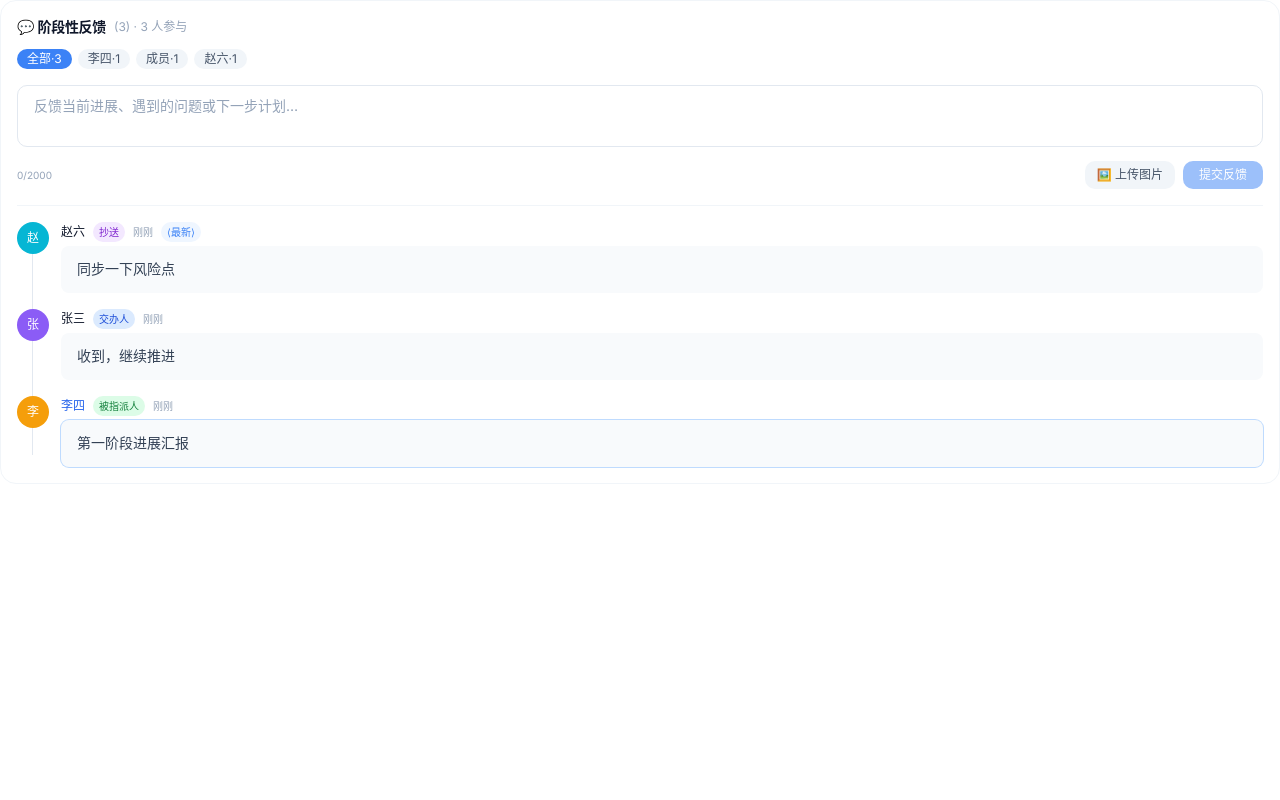
FeedbackTimeline › 被指派人应可输入并提交反馈
In the text box with placeholder "反馈当前进展、遇到的问题或下一步计划…": (640,116) [17,85,1263,147], type "今天推进到一半，明天继续"
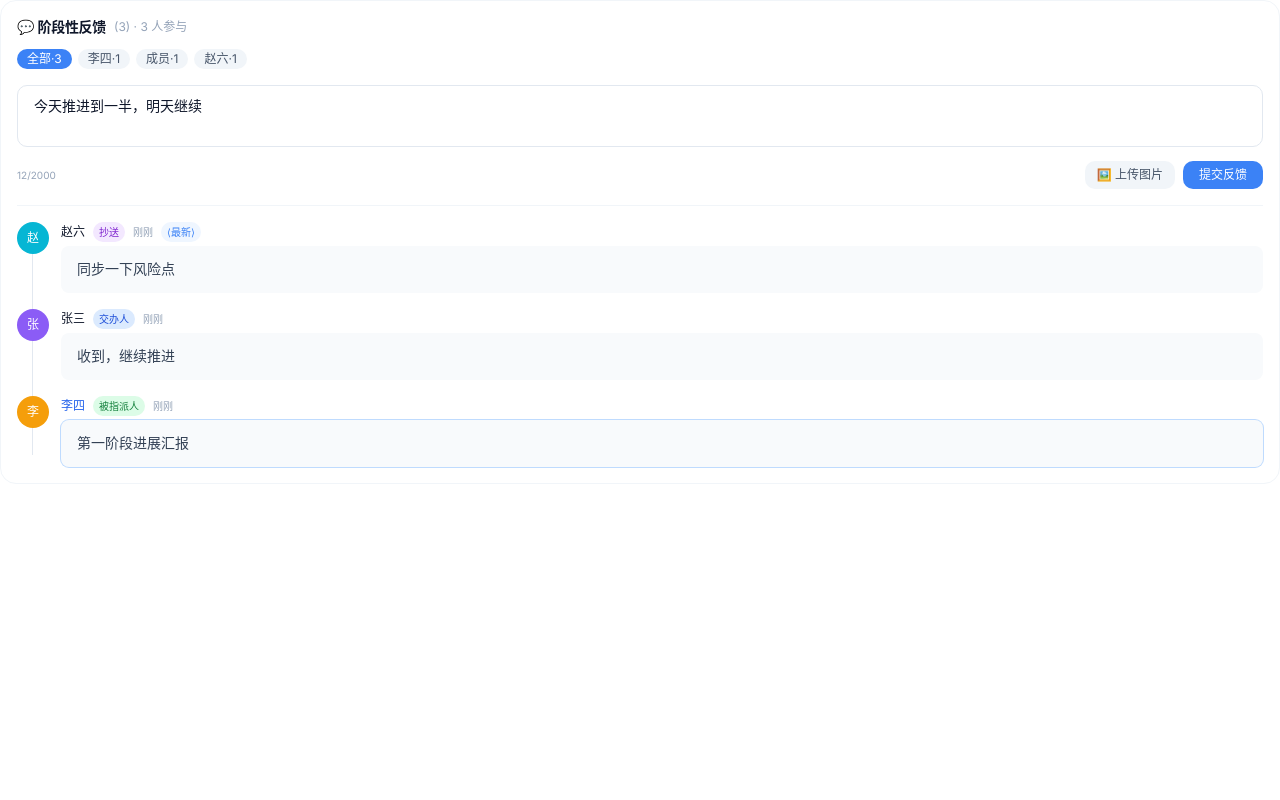
Click the button "提交反馈": (1223,175) [1183,161,1263,189]
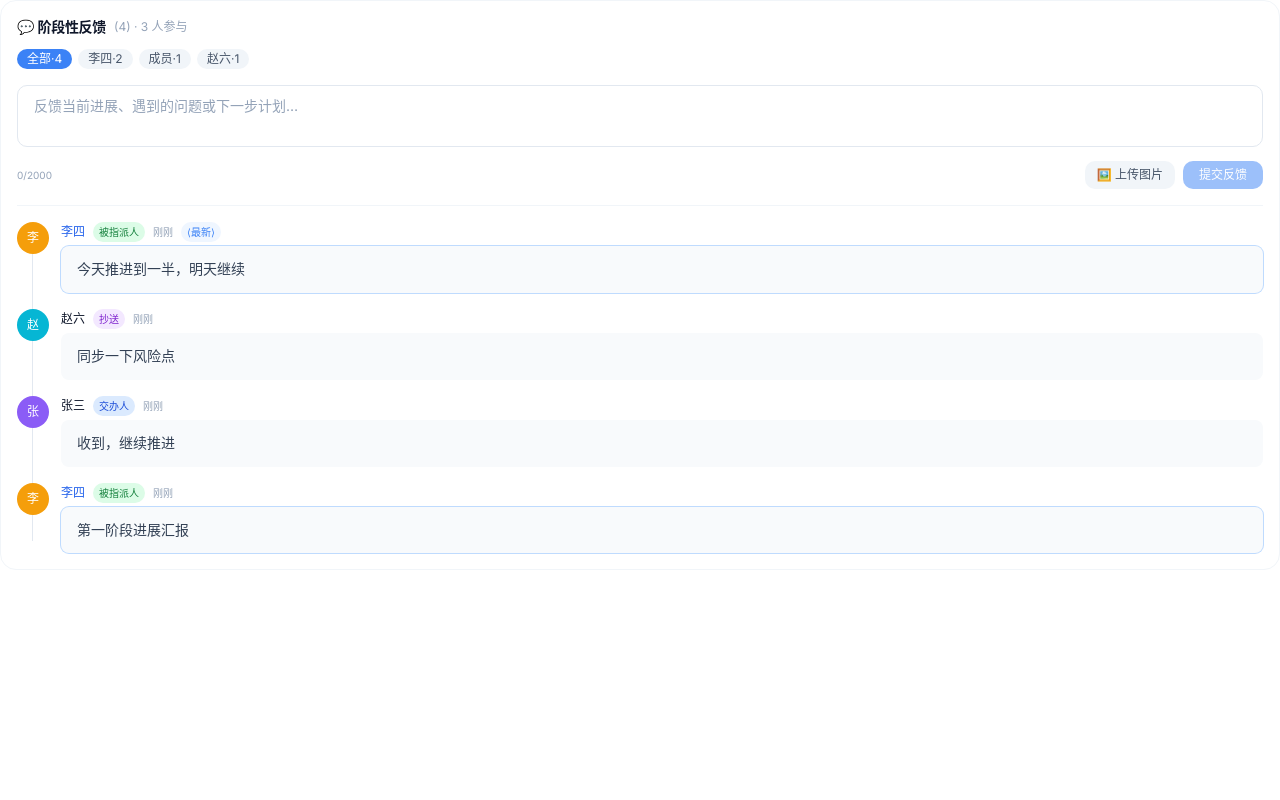
Result: the number of elements with class "items-start" is 4 at [17,222,1263,309]; [17,309,1263,396]; [17,396,1263,483]; [17,483,1263,553]
Result: the element with class "items-start" shows "今天推进到一半，明天继续" at [77,260,245,277]
Result: the text "全部·4" is shown at [17,49,72,69]
